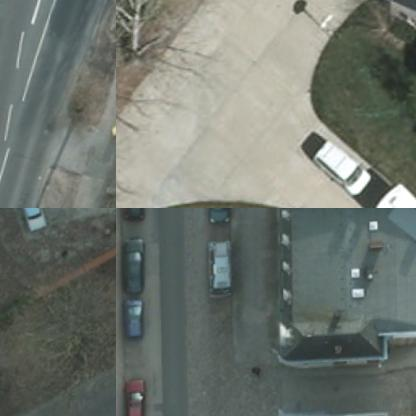car: (303, 136, 369, 204), (116, 234, 147, 292), (117, 374, 145, 415), (116, 296, 142, 338), (12, 208, 48, 234), (202, 208, 235, 227), (116, 208, 147, 221)
van: (202, 239, 233, 294)
